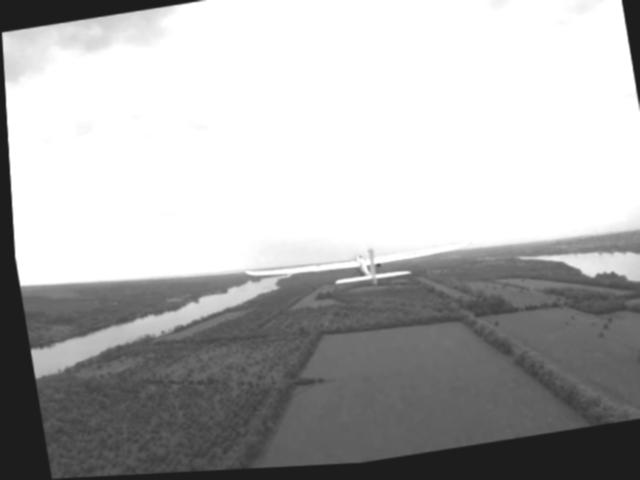hedef: (238, 232, 481, 321)
